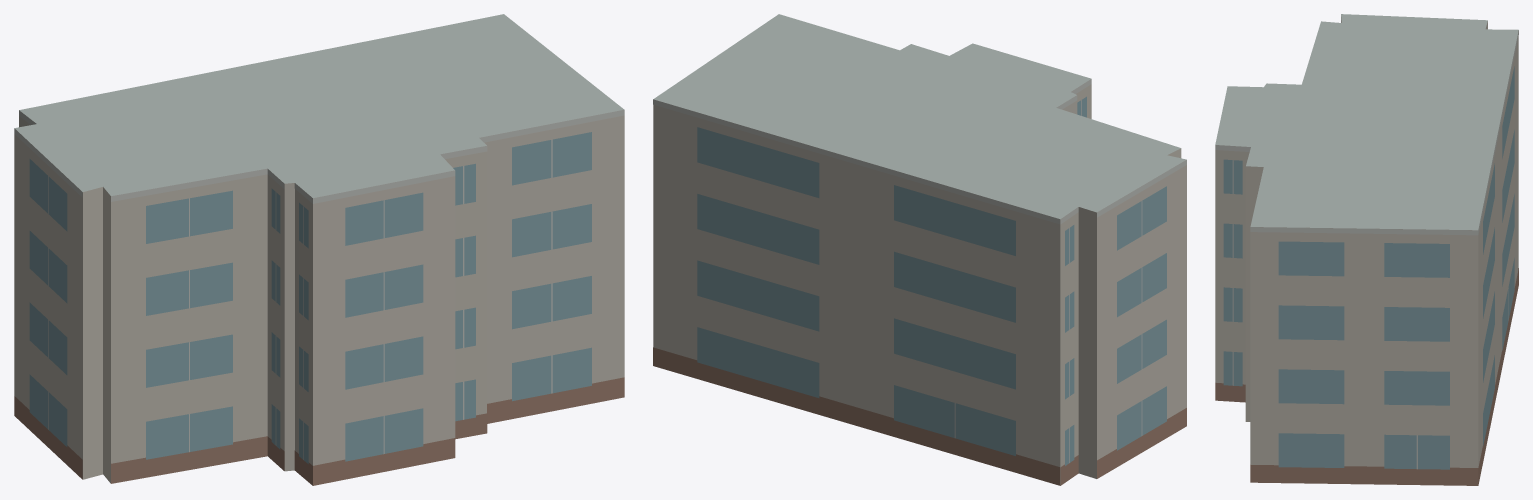
Rendered from survey-upis-32818574.glb.
3 views of the same model, side by side, from view 1: azimuth 30°, elevation 25°; view 2: azimuth 150°, elevation 25°; view 3: azimuth 270°, elevation 25° (orthographic). The views are drawn at different scales.
Visible parts, largest first — view 1: survey-upis-32818574.tmp; view 2: survey-upis-32818574.tmp; view 3: survey-upis-32818574.tmp.
Boxes of the visible parts, x1,y1,x2,y2 form: survey-upis-32818574.tmp: (14, 14, 624, 485); survey-upis-32818574.tmp: (653, 14, 1186, 485); survey-upis-32818574.tmp: (1215, 14, 1518, 485).
Bounding box in the file's own units: 22.13 × 12.2 × 13.14.
